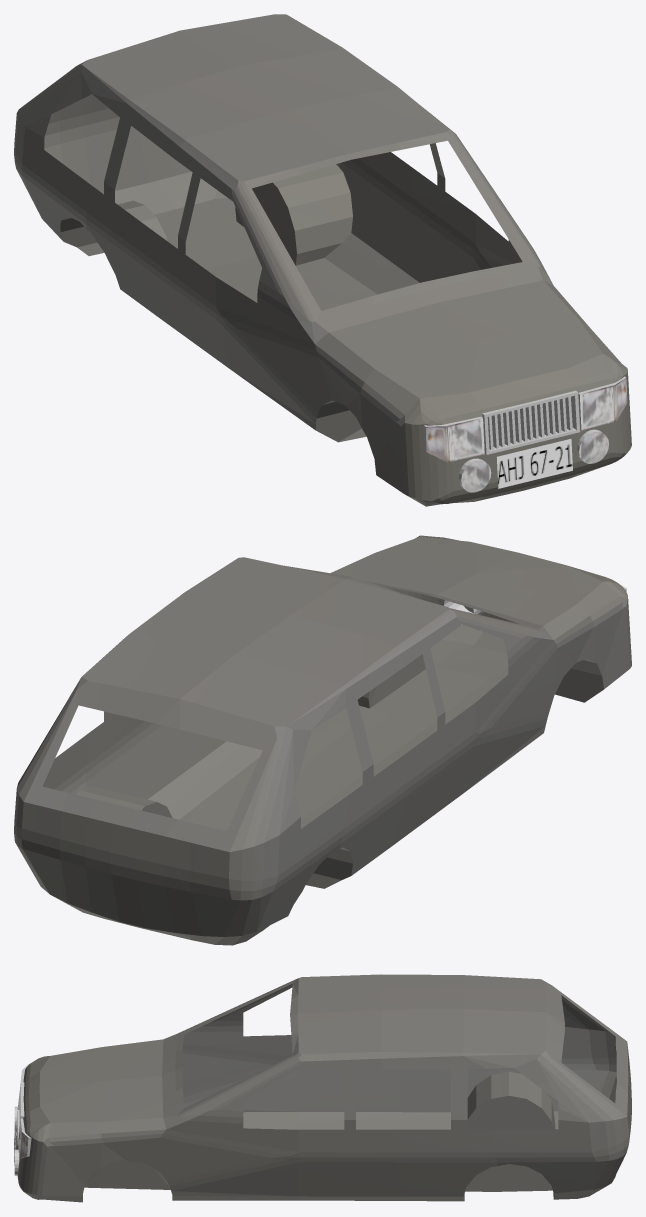
Rendered from shade_fecilia_body.obj.
3 renders of one model, top to bottom at view 1: azimuth 30°, elevation 25°; view 2: azimuth 150°, elevation 25°; view 3: azimuth 270°, elevation 25°, orthographic. The views are drawn at different scales.
Visible parts, largest first — view 1: Cube.001; view 2: Cube.001; view 3: Cube.001.
Boxes of the visible parts, x1,y1,x2,y2 form: Cube.001: (14, 14, 631, 506); Cube.001: (14, 535, 631, 945); Cube.001: (14, 974, 631, 1202).
Bounding box in the file's own units: 1.64 × 1.31 × 4.51.
1 material, 1 textured.
